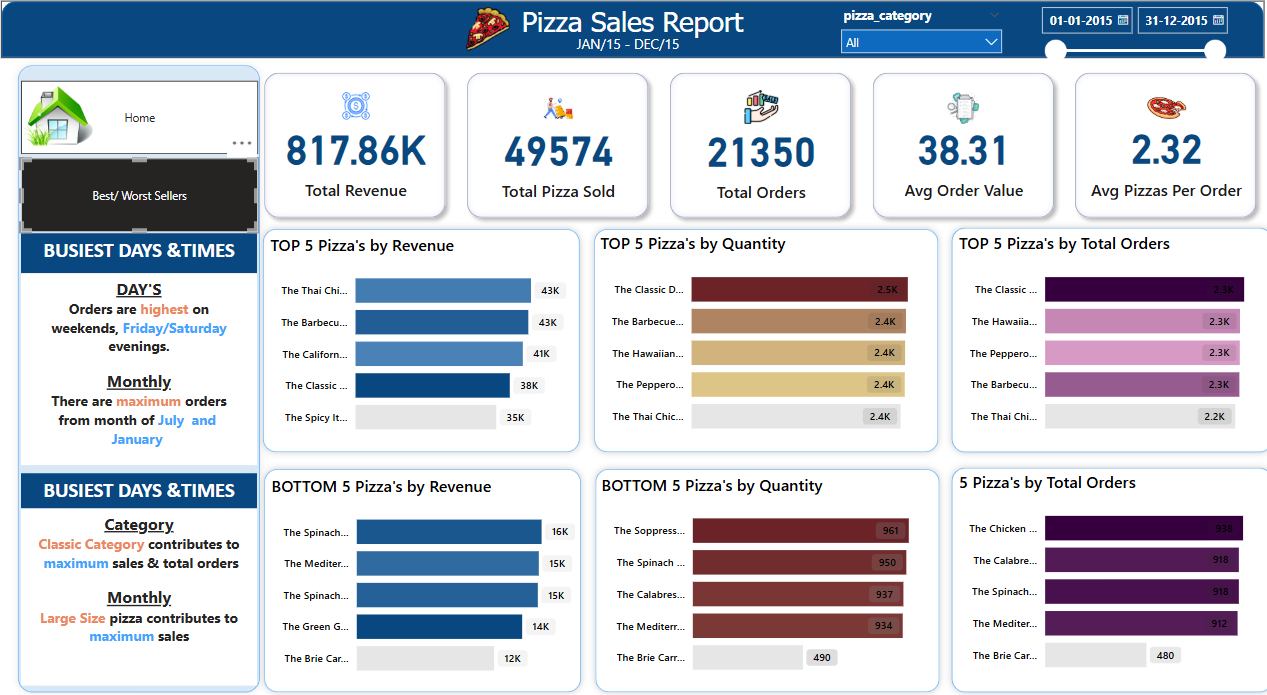

The dashboard page shown, as its layout file describes it:
{"tool":"powerbi","page":{"name":"Best/ Worst Sellers","canvas":[1500,820],"ordinal":1},"visuals":[{"type":"cardVisual","fields":{"Data":["pizza_sales.Total Revenue","pizza_sales.Total Pizza Sold","pizza_sales.Total Orders","pizza_sales.Avg Order Value","pizza_sales.Avg Pizzas Per Order"]},"box":[305.8,77.5,1184.2,202.5],"z":0},{"type":"shape","box":[16.7,10,1465,66.7],"z":1000},{"type":"textbox","box":[565,10,368.3,66.7],"z":2000},{"type":"textbox","box":[680,42.9,140,37.1],"z":3000},{"type":"image","box":[551.7,8.3,60,68.3],"z":4000},{"type":"shape","box":[313.3,266.7,383.3,275],"z":5000},{"type":"shape","box":[28.3,76.7,296.7,743.3],"z":6000},{"type":"textbox","box":[40,280,273.6,46.4],"z":7000},{"type":"textbox","box":[40,326.7,273.3,222.2],"z":8000},{"type":"textbox","box":[40,557.8,273.3,46.7],"z":9000},{"type":"textbox","box":[40,597.9,273.6,205.7],"z":10000},{"type":"slicer","fields":{"Values":["pizza_sales.pizza_category"]},"box":[981.1,11.1,206.7,67.8],"z":11000},{"type":"slicer","fields":{"Values":["pizza_sales.order_date"]},"box":[1211.1,6.7,234.4,86.7],"z":12000},{"type":"shape","box":[1111.7,265,388.3,276.7],"z":13000},{"type":"shape","box":[696.7,266.7,415,275],"z":14000},{"type":"shape","box":[315,545,383.3,275],"z":15000},{"type":"shape","box":[1111.7,543.3,388.3,276.7],"z":16000},{"type":"shape","box":[698.3,545,415,275],"z":17000},{"type":"barChart","title":"TOP 5 Pizza''s by Revenue","fields":{"Category":["pizza_sales.pizza_name"],"Y":["pizza_sales.Total Revenue"]},"box":[324.5,280,362.7,248.2],"z":18000},{"type":"barChart","title":"BOTTOM 5 Pizza''s by Revenue","fields":{"Category":["pizza_sales.pizza_name"],"Y":["pizza_sales.Total Revenue"]},"box":[325.5,559.1,362.7,248.2],"z":19000},{"type":"barChart","title":"TOP 5 Pizza''s by Quantity","fields":{"Category":["pizza_sales.pizza_name"],"Y":["pizza_sales.Total Pizza Sold"]},"box":[707.5,278.8,391.2,248.8],"z":20000},{"type":"barChart","title":"BOTTOM 5 Pizza''s by Quantity","fields":{"Category":["pizza_sales.pizza_name"],"Y":["pizza_sales.Total Pizza Sold"]},"box":[708.8,557.5,391.2,248.8],"z":21000},{"type":"barChart","title":"TOP 5 Pizza''s by Total Orders ","fields":{"Category":["pizza_sales.pizza_name"],"Y":["pizza_sales.Total Orders"]},"box":[1123.8,278.8,366.2,248.8],"z":22000},{"type":"barChart","title":"5 Pizza''s by Total Orders ","fields":{"Category":["pizza_sales.pizza_name"],"Y":["pizza_sales.Total Orders"]},"box":[1122.5,555,366.2,248.8],"z":23000},{"type":"pageNavigator","box":[40,103.3,275.6,85.6],"z":24000},{"type":"pageNavigator","box":[40,193.3,275.6,85.6],"z":24001},{"type":"image","box":[28,181,109,110],"z":24002},{"type":"image","box":[28.3,93.3,109.2,105],"z":24003}]}

Visuals, with their boxes in screenshot pixels (x1, y1, x2, y2), scaled from the page's 1500x820 canvas onto the 1267x695 screenshot:
cardVisual - pizza_sales.Total Revenue x pizza_sales.Total Pizza Sold: x1=258 y1=66 x2=1259 y2=237
shape: x1=14 y1=8 x2=1252 y2=65
textbox: x1=477 y1=8 x2=788 y2=65
textbox: x1=574 y1=36 x2=693 y2=68
image: x1=466 y1=7 x2=517 y2=65
shape: x1=265 y1=226 x2=588 y2=459
shape: x1=24 y1=65 x2=275 y2=694
textbox: x1=34 y1=237 x2=265 y2=277
textbox: x1=34 y1=277 x2=265 y2=465
textbox: x1=34 y1=473 x2=265 y2=512
textbox: x1=34 y1=507 x2=265 y2=681
slicer - pizza_sales.pizza_category: x1=829 y1=9 x2=1003 y2=67
slicer - pizza_sales.order_date: x1=1023 y1=6 x2=1221 y2=79
shape: x1=939 y1=225 x2=1266 y2=459
shape: x1=588 y1=226 x2=939 y2=459
shape: x1=266 y1=462 x2=590 y2=694
shape: x1=939 y1=460 x2=1266 y2=694
shape: x1=590 y1=462 x2=940 y2=694
"TOP 5 Pizza''s by Revenue" barChart: x1=274 y1=237 x2=580 y2=448
"BOTTOM 5 Pizza''s by Revenue" barChart: x1=275 y1=474 x2=581 y2=684
"TOP 5 Pizza''s by Quantity" barChart: x1=598 y1=236 x2=928 y2=447
"BOTTOM 5 Pizza''s by Quantity" barChart: x1=599 y1=473 x2=929 y2=683
"TOP 5 Pizza''s by Total Orders " barChart: x1=949 y1=236 x2=1259 y2=447
"5 Pizza''s by Total Orders " barChart: x1=948 y1=470 x2=1257 y2=681
pageNavigator: x1=34 y1=88 x2=267 y2=160
pageNavigator: x1=34 y1=164 x2=267 y2=236
image: x1=24 y1=153 x2=116 y2=247
image: x1=24 y1=79 x2=116 y2=168
